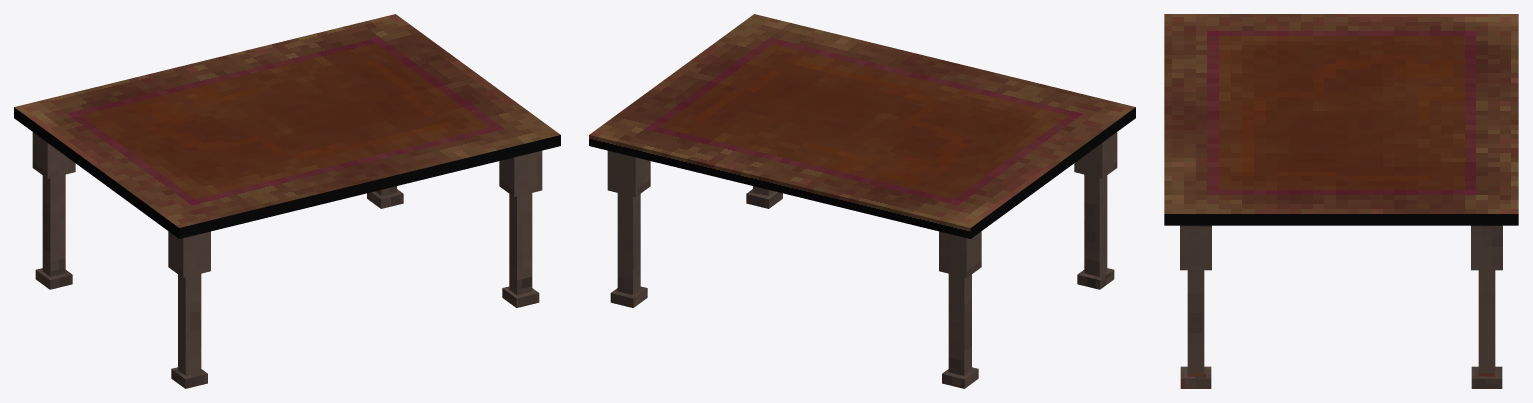
Rendered from Table.obj.
3 renders of one model, left to right at view 1: azimuth 30°, elevation 25°; view 2: azimuth 150°, elevation 25°; view 3: azimuth 270°, elevation 25°, orthographic. The views are drawn at different scales.
Visible parts, largest first — view 1: Plane; view 2: Plane; view 3: Plane.
Boxes of the visible parts, x1,y1,x2,y2 form: Plane: [14, 14, 560, 388]; Plane: [589, 14, 1135, 388]; Plane: [1164, 14, 1518, 388].
Bounding box in the file's own units: 4 × 1.7 × 3.
